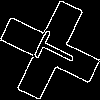T: (25, 25, 80, 73)
